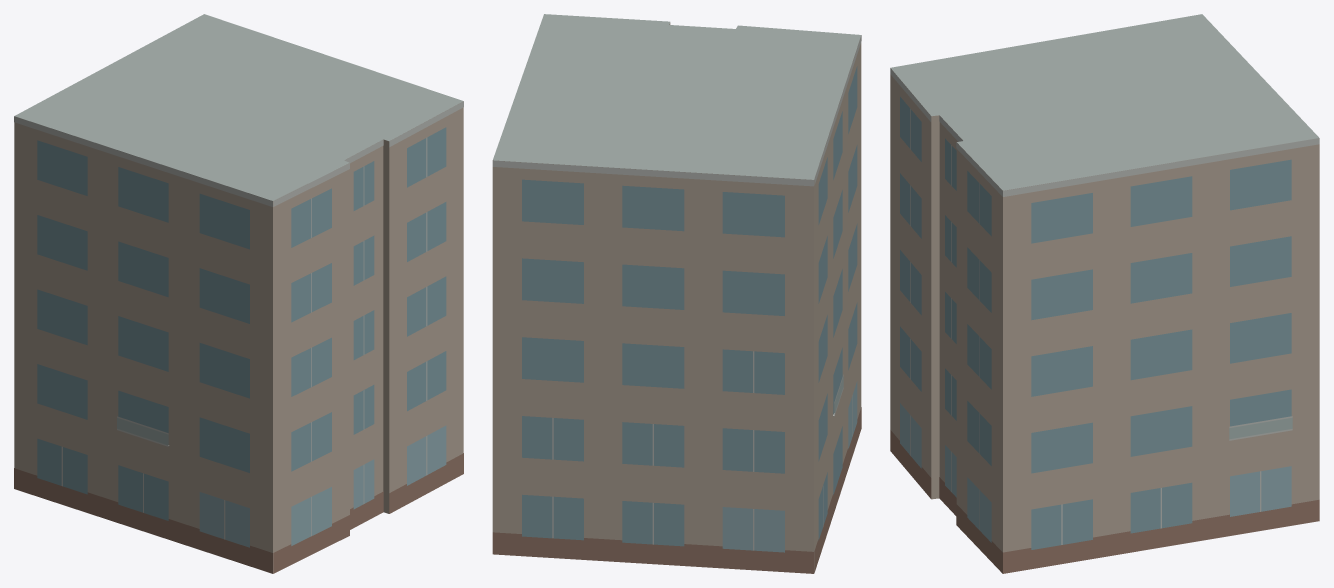
The model's file is survey-upis-32949492.glb.
The picture shows the model from 3 angles, left to right: view 1: azimuth 30°, elevation 25°; view 2: azimuth 150°, elevation 25°; view 3: azimuth 270°, elevation 25°; orthographic projection. The views are drawn at different scales.
Parts seen in each view (by area): view 1: survey-upis-32949492.tmp; view 2: survey-upis-32949492.tmp; view 3: survey-upis-32949492.tmp.
Boxes of the visible parts, x1,y1,x2,y2 form: survey-upis-32949492.tmp: (14, 14, 463, 573); survey-upis-32949492.tmp: (492, 14, 861, 573); survey-upis-32949492.tmp: (890, 14, 1319, 573).
Size of the model in its own units: 14.66 by 14.8 by 15.04.
